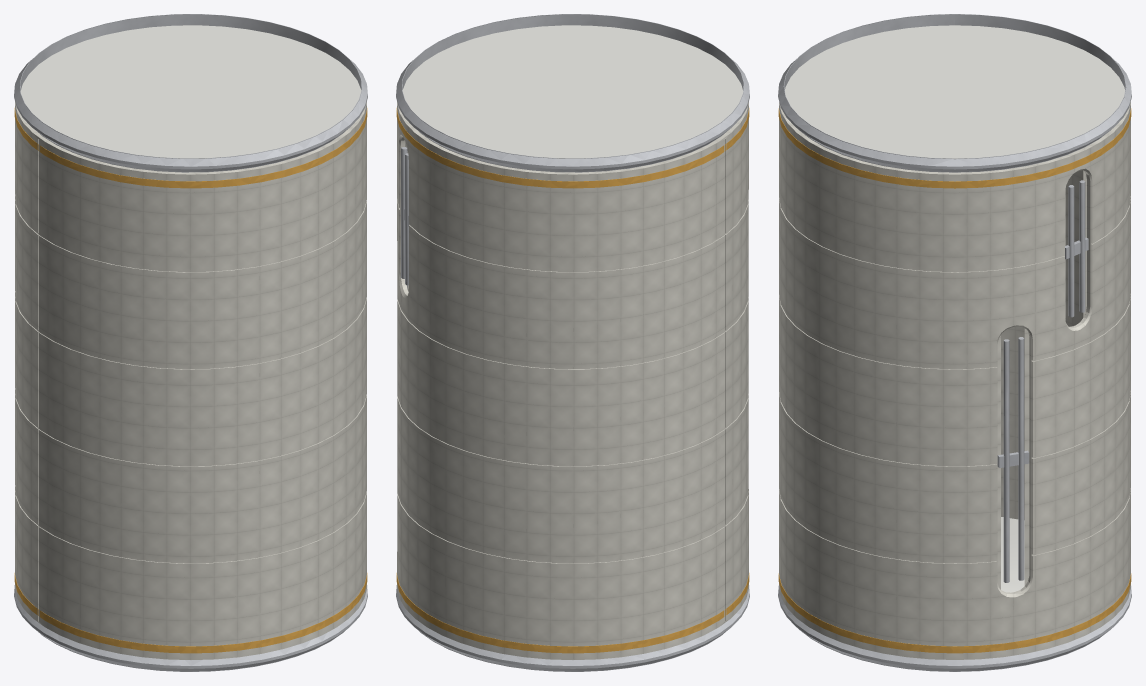
Rendered from ax_tank_12_isru_lox_l.glb.
3 views of the same model, side by side, from view 1: azimuth 30°, elevation 25°; view 2: azimuth 150°, elevation 25°; view 3: azimuth 270°, elevation 25° (orthographic).
Visible parts, largest first — view 1: mli_blanket, dome_caps, end_rings, blanket_bands; view 2: mli_blanket, dome_caps, end_rings, blanket_bands, raceway_lines; view 3: mli_blanket, dome_caps, end_rings, raceway_lines, blanket_bands.
Boxes of the visible parts, box(x1,y1,x2,y2) form: mli_blanket: box(15, 102, 366, 659); dome_caps: box(20, 25, 361, 158); end_rings: box(14, 14, 367, 671); blanket_bands: box(14, 108, 367, 653); mli_blanket: box(397, 102, 748, 659); dome_caps: box(402, 25, 743, 158); end_rings: box(396, 14, 749, 671); blanket_bands: box(396, 108, 749, 653); raceway_lines: box(401, 147, 409, 288); mli_blanket: box(779, 102, 1130, 659); dome_caps: box(785, 25, 1124, 592); end_rings: box(778, 14, 1131, 671); raceway_lines: box(997, 180, 1088, 582); blanket_bands: box(778, 108, 1131, 653).
Size of the model in its own units: 3.75 by 6 by 3.75.
Materials: 4 (3 with a texture image).
